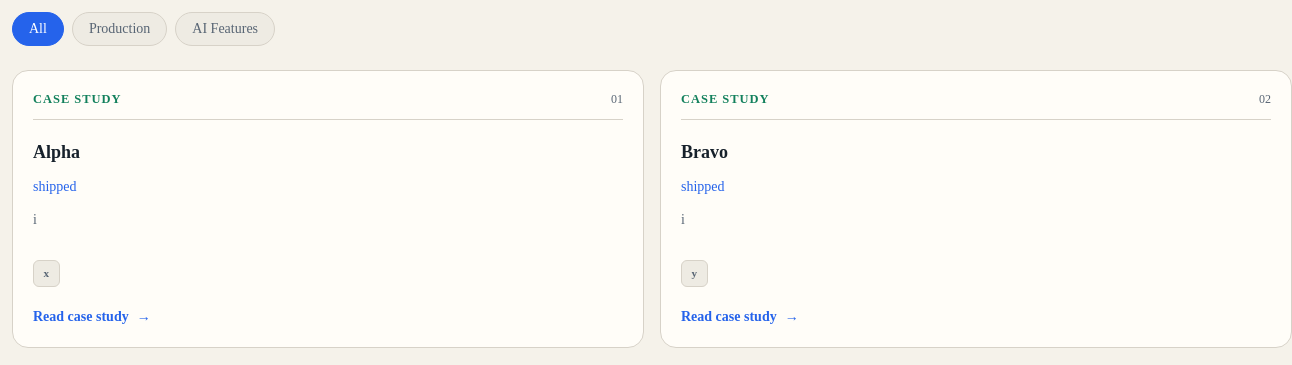
WorkList filters › shows everything by default and filters by category
This screenshot has width=1292, height=365.
Expected: the heading "Alpha" is shown, left=33, top=142, right=80, bottom=162
Expected: the heading "Bravo" is shown, left=681, top=142, right=728, bottom=162
Click the button "AI Features" at x=225, y=29, box left=175, top=12, right=275, bottom=46
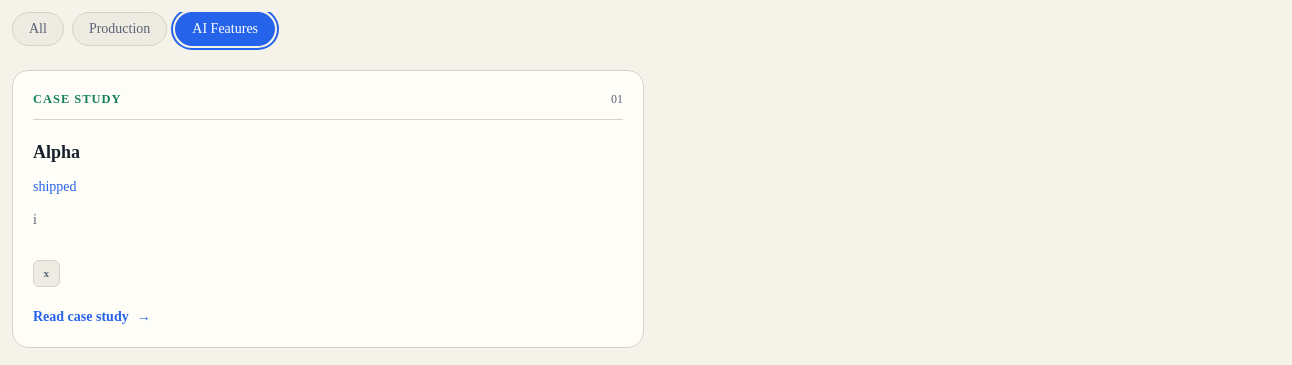
Expected: the heading "Alpha" is shown, left=33, top=142, right=80, bottom=162
Now the link "Bravo" is gone
Click the button "All" at x=38, y=29, box left=12, top=12, right=64, bottom=46
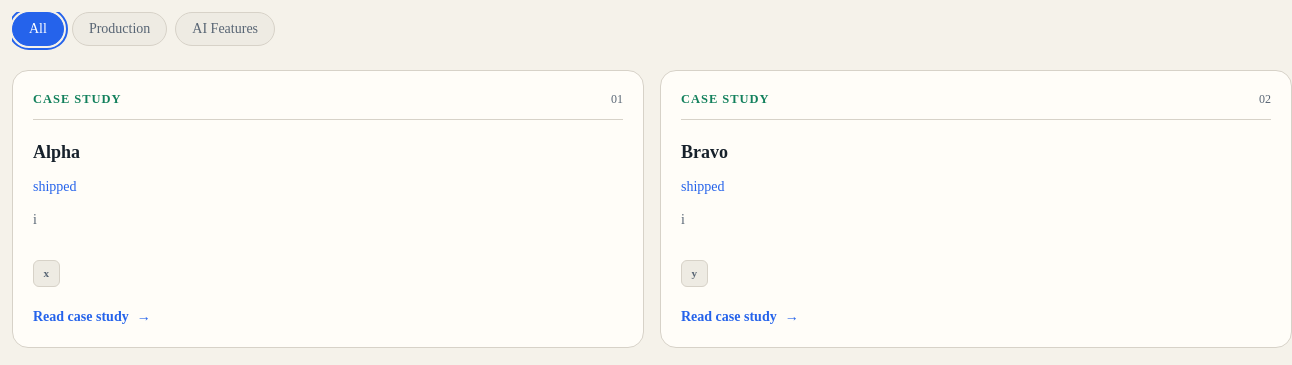
Now the heading "Bravo" is shown, box left=681, top=142, right=728, bottom=162
